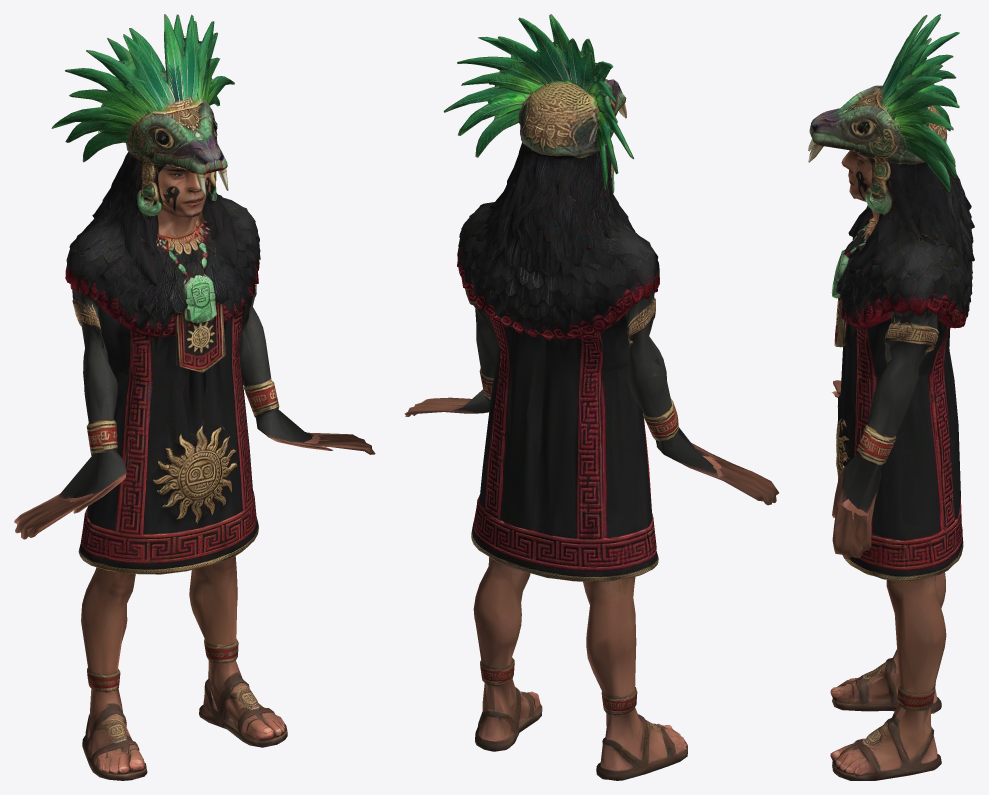
File: human-w-b.glb
3 renders of one model, left to right at view 1: azimuth 30°, elevation 25°; view 2: azimuth 150°, elevation 25°; view 3: azimuth 270°, elevation 25°, orthographic. The views are drawn at different scales.
Parts seen in each view (by area): view 1: Mesh_0.001; view 2: Mesh_0.001; view 3: Mesh_0.001.
Part boxes in pixels (x1,y1,x2,y2): Mesh_0.001: [14, 14, 375, 780]; Mesh_0.001: [404, 14, 778, 780]; Mesh_0.001: [808, 14, 974, 780].
Size of the model in its own units: 0.8766 by 1.7 by 0.3584.
Materials: 1 (1 with a texture image).
